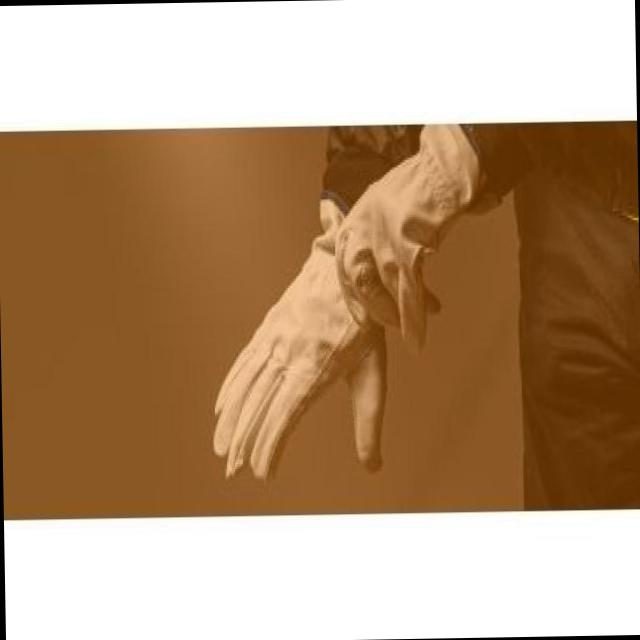Gloves: (184, 202, 400, 482), (337, 125, 488, 356)
